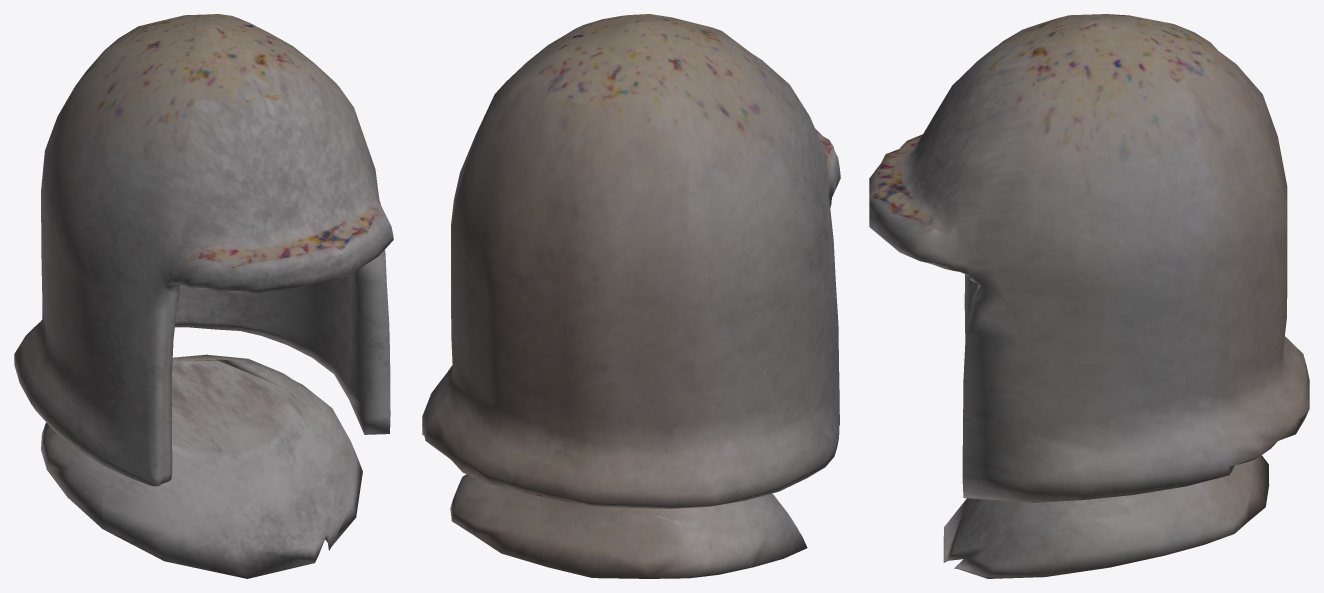
File: helmet-metal-base_backup.glb
3 views of the same model, side by side, from view 1: azimuth 30°, elevation 25°; view 2: azimuth 150°, elevation 25°; view 3: azimuth 270°, elevation 25° (orthographic). The views are drawn at different scales.
Parts seen in each view (by area): view 1: file1; view 2: file1; view 3: file1.
Boxes of the visible parts, x1,y1,x2,y2 form: file1: [14, 14, 393, 578]; file1: [422, 14, 840, 578]; file1: [869, 14, 1309, 578].
Size of the model in its own units: 1.34 by 1.99 by 1.51.
1 material, 1 textured.
